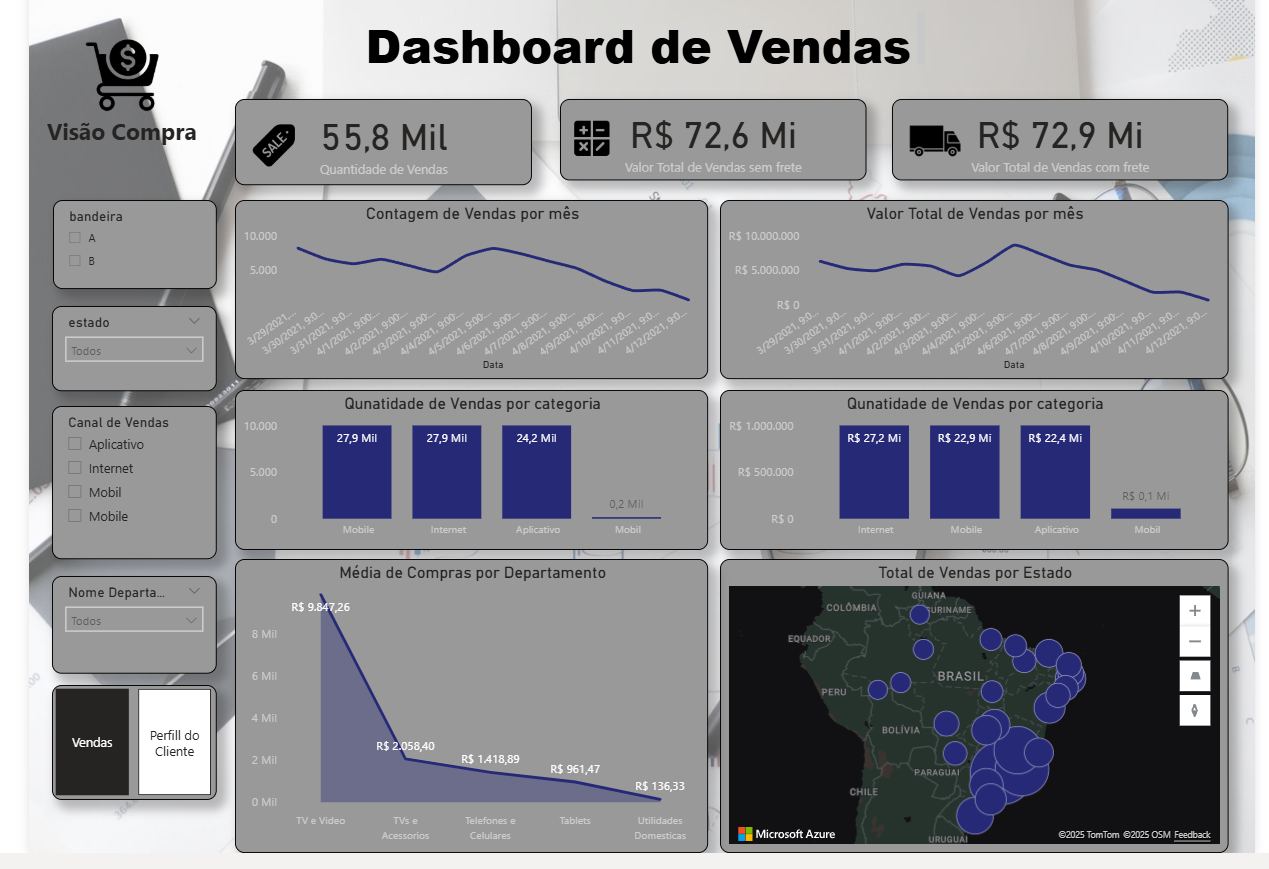

This screenshot's page, from the dashboard's own definition file:
{"tool":"powerbi","page":{"name":"Vendas","canvas":[1280,900],"ordinal":0},"visuals":[{"type":"card","fields":{"Values":["Count(base compra.idcompra)"]},"box":[215,113.1,310.3,89.8],"z":0},{"type":"card","fields":{"Values":["Sum(base compra.Preço)"]},"box":[554.2,113.1,320.3,85.3],"z":1000},{"type":"card","fields":{"Values":["Sum(base compra.Preço_com_frete)"]},"box":[901.1,113.1,351.4,85.3],"z":2000},{"type":"textbox","box":[339.6,20,600.7,70.9],"z":3000},{"type":"image","box":[228.3,124.1,54.3,74.3],"z":4000},{"type":"image","box":[24.4,104.2,162.9,68.7],"z":5000},{"type":"image","box":[561.9,113.1,52.1,82],"z":6000},{"type":"image","box":[913.3,119.7,65.4,73.2],"z":7000},{"type":"textbox","box":[3.3,164,196.2,78.7],"z":8000},{"type":"slicer","fields":{"Values":["base compra.bandeira"]},"box":[25.5,218.3,170.7,93.1],"z":9000},{"type":"slicer","fields":{"Values":["base compra.estado"]},"box":[24.4,329.2,171.8,88.7],"z":10000},{"type":"slicer","fields":{"Values":["base compra.idcanalvenda"]},"box":[24.4,433.4,171.8,159.6],"z":11000},{"type":"slicer","fields":{"Values":["base compra.Nome_Departamento"]},"box":[24.4,610.7,171.8,102],"z":12000},{"type":"lineChart","title":"Contagem de Vendas por mês","fields":{"Y":["CountNonNull(base compra.idcompra)"],"Category":["base compra.Data"]},"box":[215.5,218,494.2,186.6],"z":13000},{"type":"lineChart","title":"Valor Total de  Vendas por mês","fields":{"Category":["base compra.Data"],"Y":["Sum(base compra.Preço)"]},"box":[721.9,218,530.6,186.6],"z":14000},{"type":"clusteredColumnChart","title":"Qunatidade de Vendas por categoria","fields":{"Category":["base compra.idcanalvenda"],"Y":["CountNonNull(base compra.idcompra)"]},"box":[215,416.7,494.3,167.4],"z":15000},{"type":"clusteredColumnChart","title":"Qunatidade de Vendas por categoria","fields":{"Y":["Sum(base compra.Preço)"],"Category":["base compra.idcanalvenda"]},"box":[721.6,416.7,530.9,167.4],"z":16000},{"type":"map","fields":{"Category":["Base cliente.Estado"],"Size":["CountNonNull(base compra.idcompra)"]},"box":[721.6,593,530.9,307],"z":17000},{"type":"areaChart","fields":{"Y":["Avg(base compra.Preço_com_frete)"],"Category":["base compra.Nome_Departamento"]},"box":[215,593,494.3,307],"z":18000},{"type":"pageNavigator","box":[24.4,724.9,171.8,119.7],"z":19000}]}

Visuals, with their boxes in screenshot pixels (x1, y1, x2, y2), scaled from the page's 1280x900 canvas onto the 1269x869 screenshot:
card - Count(base compra.idcompra): [213, 109, 521, 196]
card - Sum(base compra.Preço): [549, 109, 867, 192]
card - Sum(base compra.Preço_com_frete): [893, 109, 1242, 192]
textbox: [337, 19, 932, 88]
image: [226, 120, 280, 192]
image: [24, 101, 186, 167]
image: [557, 109, 609, 188]
image: [905, 116, 970, 186]
textbox: [3, 158, 198, 234]
slicer - base compra.bandeira: [25, 211, 195, 301]
slicer - base compra.estado: [24, 318, 195, 404]
slicer - base compra.idcanalvenda: [24, 418, 195, 573]
slicer - base compra.Nome_Departamento: [24, 590, 195, 688]
"Contagem de Vendas por mês" lineChart: [214, 210, 704, 391]
"Valor Total de  Vendas por mês" lineChart: [716, 210, 1242, 391]
"Qunatidade de Vendas por categoria" clusteredColumnChart: [213, 402, 703, 564]
"Qunatidade de Vendas por categoria" clusteredColumnChart: [715, 402, 1242, 564]
map - Base cliente.Estado x CountNonNull(base compra.idcompra): [715, 573, 1242, 868]
areaChart - Avg(base compra.Preço_com_frete) x base compra.Nome_Departamento: [213, 573, 703, 868]
pageNavigator: [24, 700, 195, 816]
